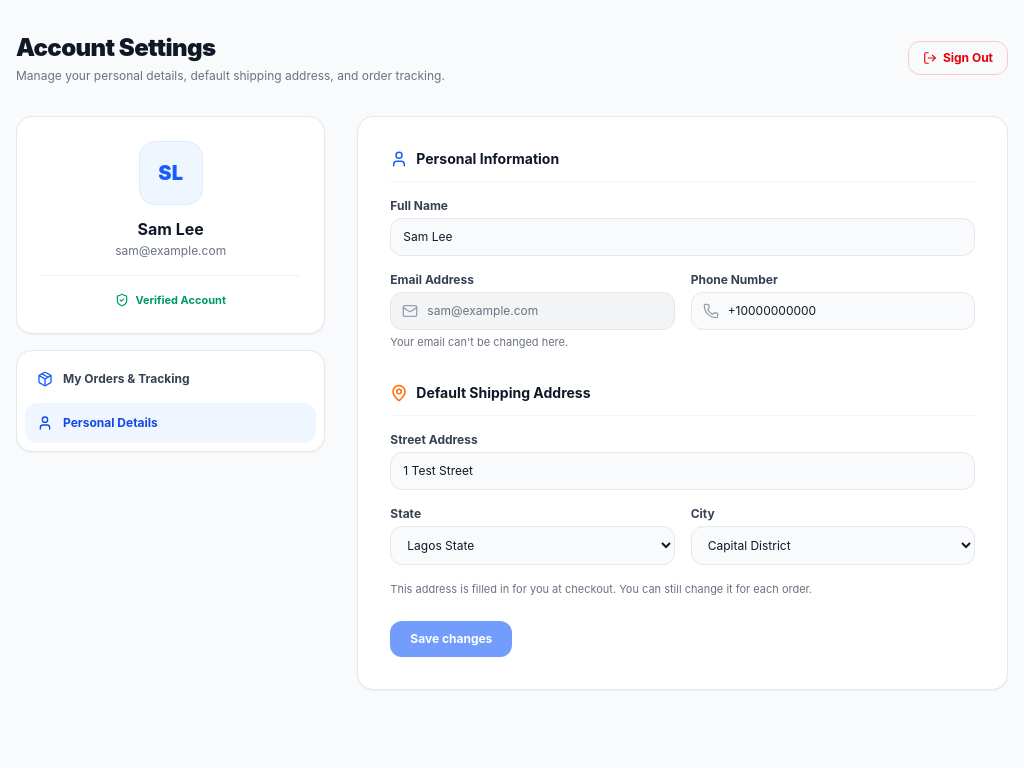
Profile page › cannot be saved until something changes
Expected: the button "Save changes" is disabled, [390,621,512,657]
In the field labelled "Full Name": (683, 237) [390,218,975,256], type "x"
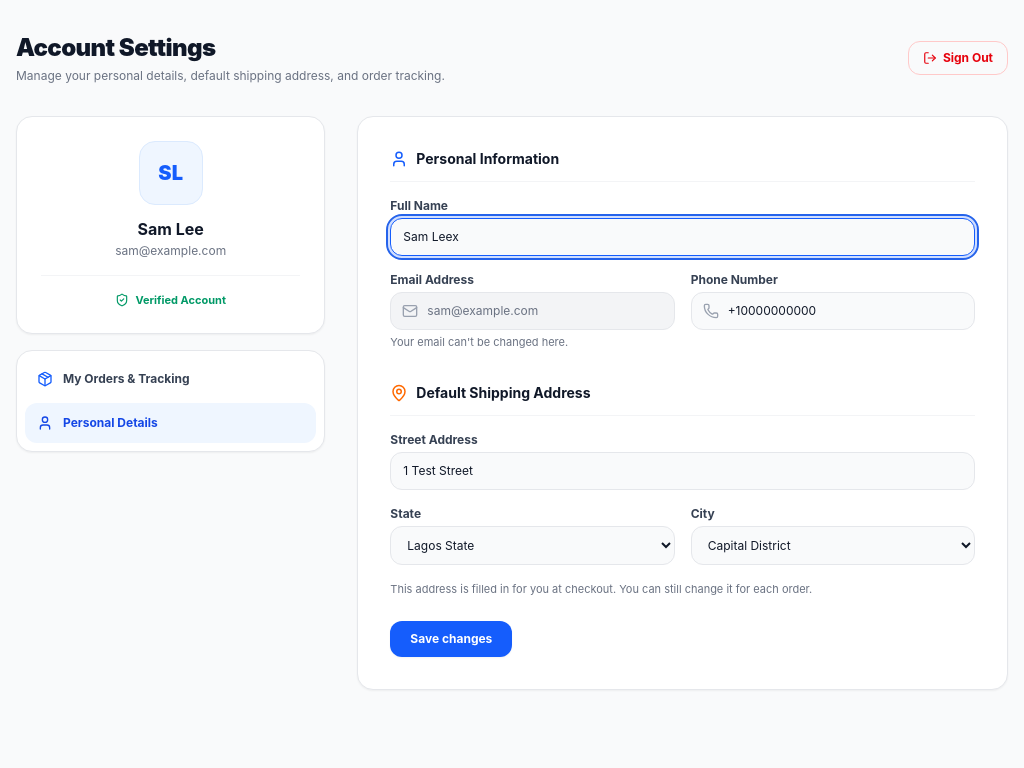
Result: the button "Save changes" is enabled at [390,621,512,657]
